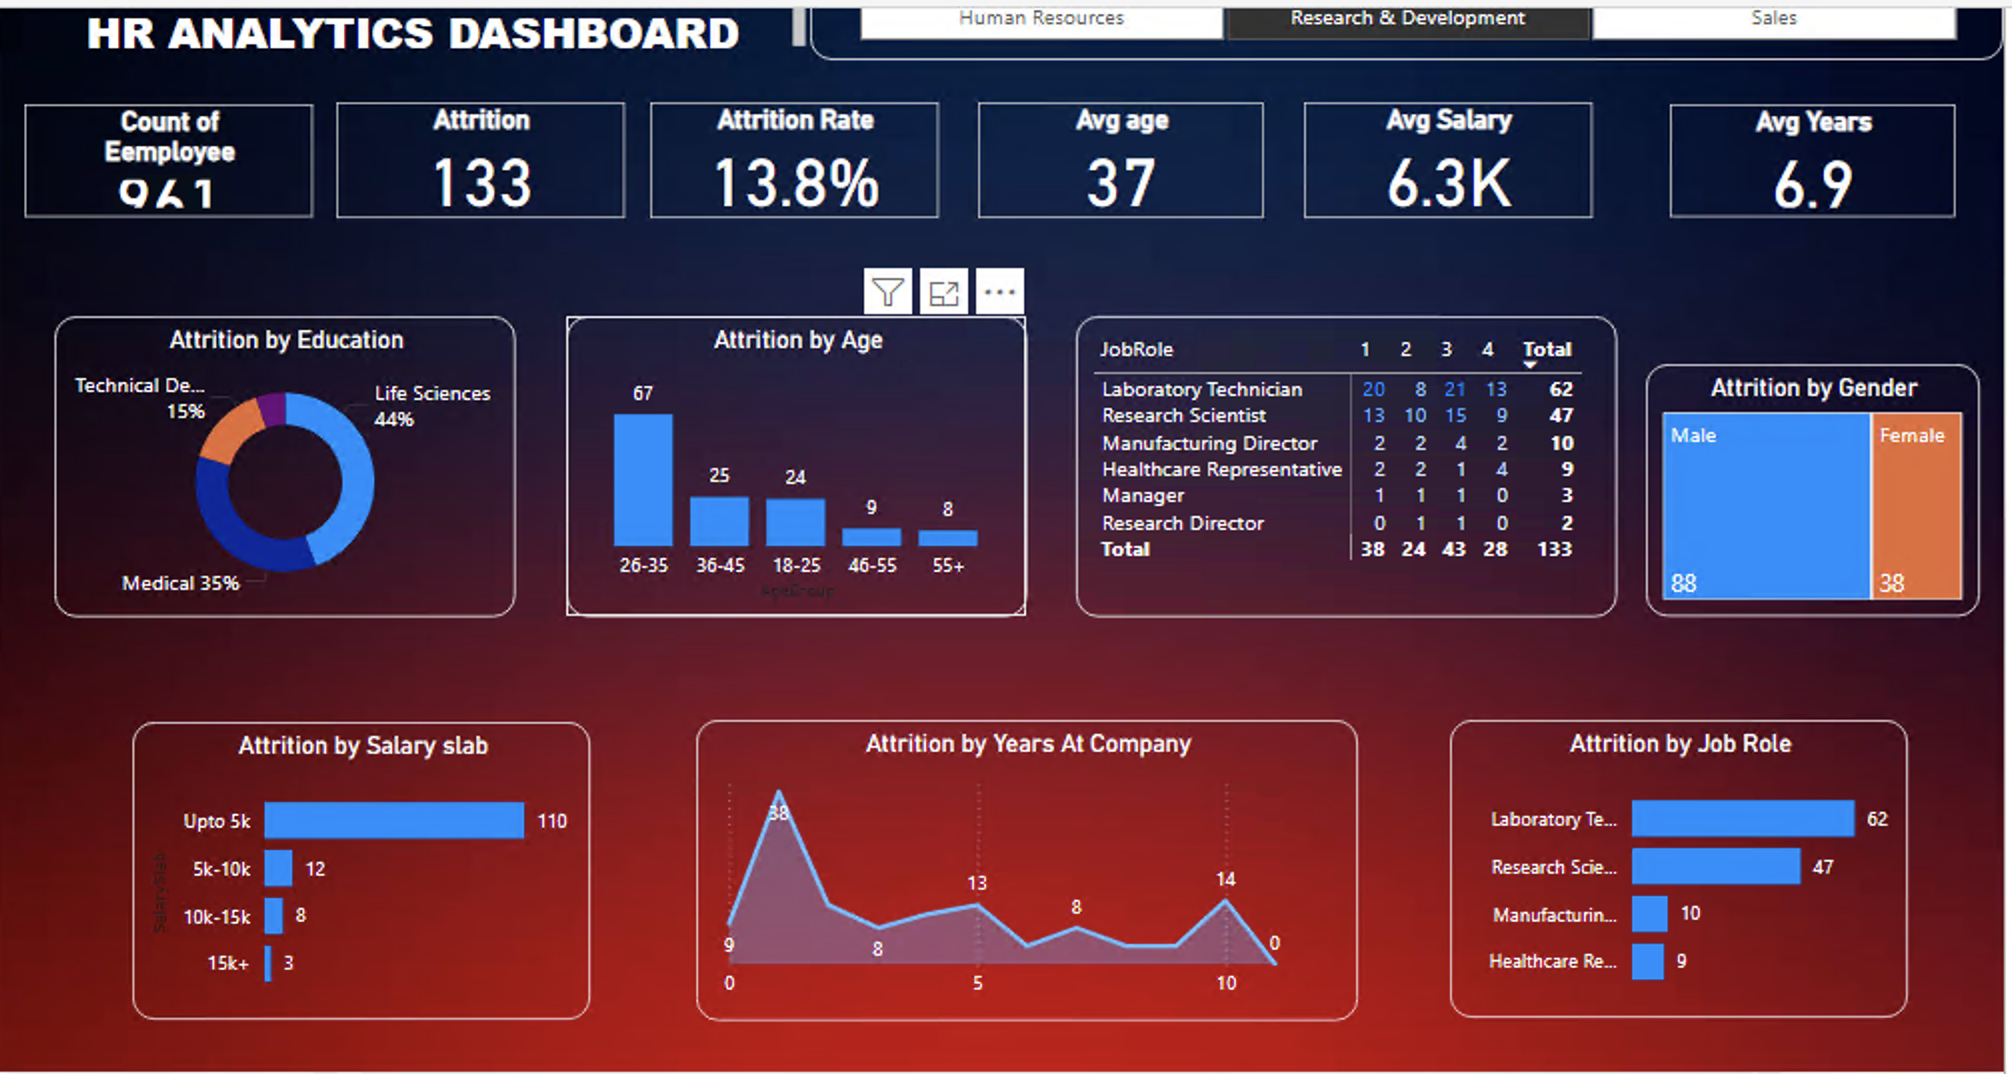

The dashboard page shown, as its layout file describes it:
{"tool":"powerbi","page":{"name":"Page 1","canvas":[1280,720],"ordinal":0},"visuals":[{"type":"card","title":"Count of Eemployee","fields":{"Values":["CountNonNull(HR_Analytics copy.EmpID)"]},"box":[17.6,103.9,183.8,71.9],"z":0},{"type":"card","title":"Attrition","fields":{"Values":["Sum(HR_Analytics copy.AttritionCount)"]},"box":[217.3,102.3,183.8,73.5],"z":1000},{"type":"card","title":"Attrition Rate","fields":{"Values":["HR_Analytics copy.AttritionRate"]},"box":[417.1,102.3,183.8,73.5],"z":2000},{"type":"card","title":"Avg age","fields":{"Values":["Avg(HR_Analytics copy.Age)"]},"box":[626.4,102.3,182.2,73.5],"z":3000},{"type":"card","title":"Avg Salary","fields":{"Values":["Avg(HR_Analytics copy.MonthlyIncome)"]},"box":[834.2,102.3,183.8,73.5],"z":4000},{"type":"card","title":"Avg Years","fields":{"Values":["Avg(HR_Analytics copy.YearsAtCompany)"]},"box":[1067.5,103.9,182.2,71.9],"z":5000},{"type":"donutChart","title":"Attrition by Education ","fields":{"Category":["HR_Analytics copy.EducationField"],"Y":["Sum(HR_Analytics copy.AttritionCount)"]},"box":[36.8,238.1,294,191.8],"z":6000},{"type":"columnChart","title":"Attrition by Age","fields":{"Category":["HR_Analytics copy.AgeGroup"],"Y":["Sum(HR_Analytics copy.AttritionCount)"]},"box":[362.7,238.1,294,191.8],"z":7000},{"type":"pivotTable","fields":{"Rows":["HR_Analytics copy.JobRole"],"Columns":["HR_Analytics copy.JobSatisfaction"],"Values":["Sum(HR_Analytics copy.AttritionCount)"]},"box":[688.7,238.1,345.2,191.8],"z":8000},{"type":"barChart","title":"Attrition by Age","fields":{"Category":["HR_Analytics copy.SalarySlab"],"Y":["Sum(HR_Analytics copy.AttritionCount)"]},"box":[86.3,497,292.4,190.2],"z":9000},{"type":"barChart","title":"Attrition by Age","fields":{"Category":["HR_Analytics copy.JobRole"],"Y":["Sum(HR_Analytics copy.AttritionCount)"]},"box":[926.8,495.4,292.4,190.2],"z":10000},{"type":"areaChart","title":"Attrition by Age","fields":{"Category":["HR_Analytics copy.YearsAtCompany"],"Y":["Sum(HR_Analytics copy.AttritionCount)"]},"box":[445.8,495.4,421.9,191.8],"z":11000},{"type":"treemap","title":"Attrition by Age","fields":{"Group":["HR_Analytics copy.Gender"],"Values":["Sum(HR_Analytics copy.AttritionCount)"]},"box":[1051.5,268.5,212.5,161.4],"z":12000},{"type":"textbox","box":[17.6,33.6,503.4,41.5],"z":12002},{"type":"slicer","fields":{"Values":["HR_Analytics copy.Department"]},"box":[519.4,19.2,760.6,55.9],"z":12003}]}

Visuals, with their boxes on the page's 1280x720 design canvas (x1, y1, x2, y2). These are canvas units, not pixel positions in the 2012x1074 screenshot, which may show the page scaled, cropped or inside an application window:
"Count of Eemployee" card: 18 104 201 176
"Attrition" card: 217 102 401 176
"Attrition Rate" card: 417 102 601 176
"Avg age" card: 626 102 809 176
"Avg Salary" card: 834 102 1018 176
"Avg Years" card: 1068 104 1250 176
"Attrition by Education " donutChart: 37 238 331 430
"Attrition by Age" columnChart: 363 238 657 430
pivotTable - HR_Analytics copy.JobRole x HR_Analytics copy.JobSatisfaction: 689 238 1034 430
"Attrition by Age" barChart: 86 497 379 687
"Attrition by Age" barChart: 927 495 1219 686
"Attrition by Age" areaChart: 446 495 868 687
"Attrition by Age" treemap: 1052 268 1264 430
textbox: 18 34 521 75
slicer - HR_Analytics copy.Department: 519 19 1280 75
